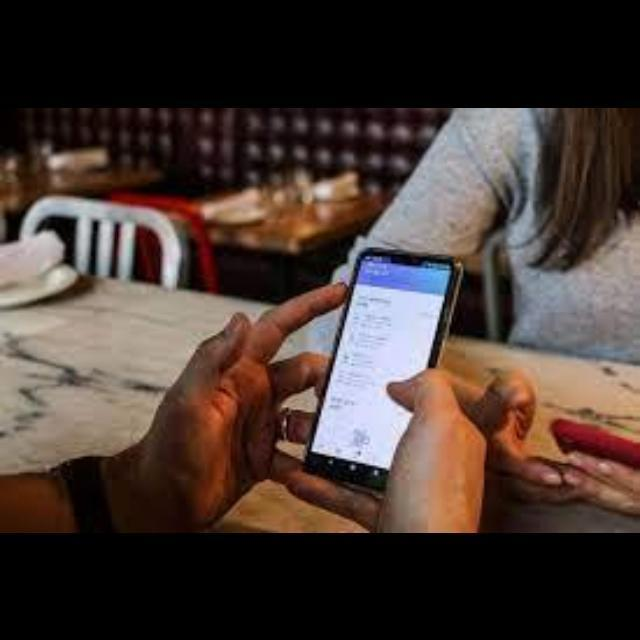PhoneUse: (305, 244, 463, 482)
